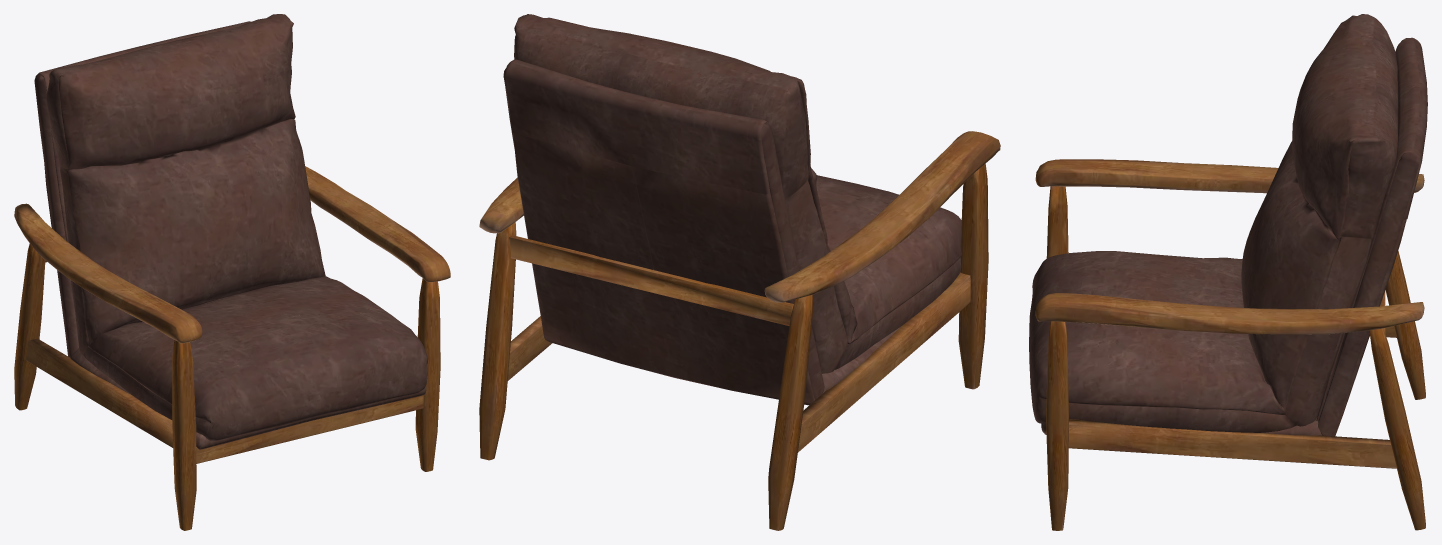
File: abo-B07B4M6B3B.glb
3 views of the same model, side by side, from view 1: azimuth 30°, elevation 25°; view 2: azimuth 150°, elevation 25°; view 3: azimuth 270°, elevation 25° (orthographic). The views are drawn at different scales.
Visible parts, largest first — view 1: RootNode; view 2: RootNode; view 3: RootNode.
Boxes of the visible parts, x1,y1,x2,y2 form: RootNode: (14, 14, 450, 530); RootNode: (479, 14, 1000, 530); RootNode: (1029, 14, 1427, 530).
Bounding box in the file's own units: 0.782 × 0.8968 × 0.83.
Materials: 1 (1 with a texture image).
